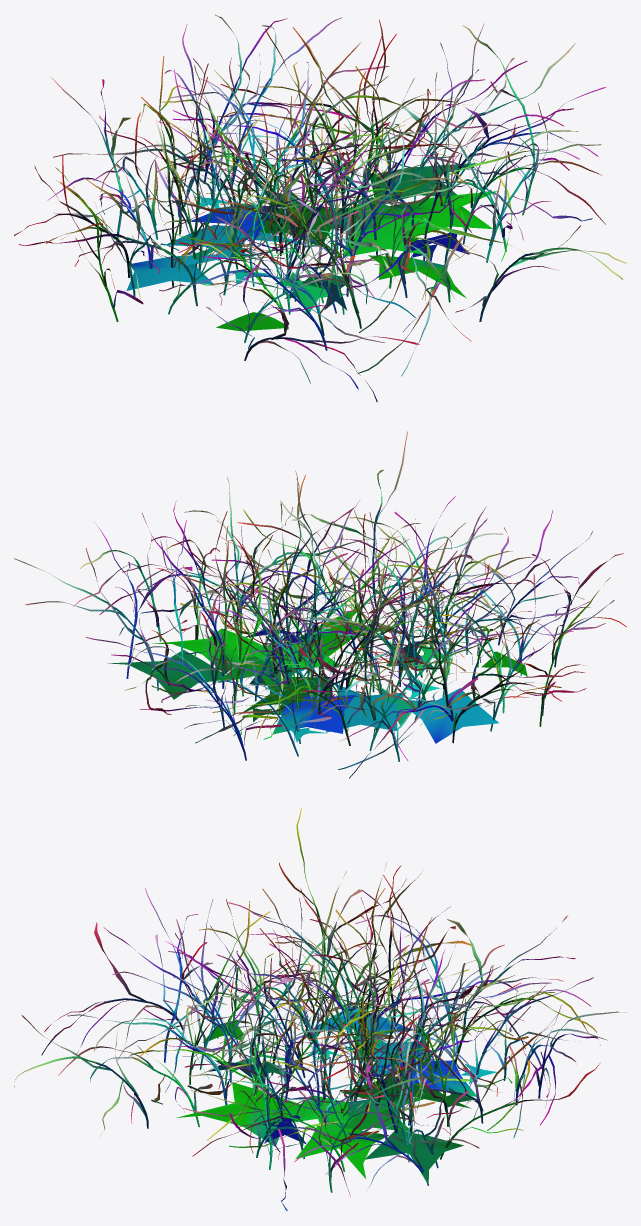
File: Kikuyu_Grass_wiljearqx_High_wiljearqx_VarG_LOD0.fbx
3 renders of one model, top to bottom at view 1: azimuth 30°, elevation 25°; view 2: azimuth 150°, elevation 25°; view 3: azimuth 270°, elevation 25°, orthographic. The views are drawn at different scales.
Parts seen in each view (by area): view 1: _edw7_VarG_LOD0; view 2: _edw7_VarG_LOD0; view 3: _edw7_VarG_LOD0.
Part boxes in pixels (x1,y1,x2,y2): _edw7_VarG_LOD0: [14, 14, 626, 401]; _edw7_VarG_LOD0: [14, 431, 626, 778]; _edw7_VarG_LOD0: [14, 808, 626, 1210].
Size of the model in its own units: 102 by 37.83 by 97.26.
